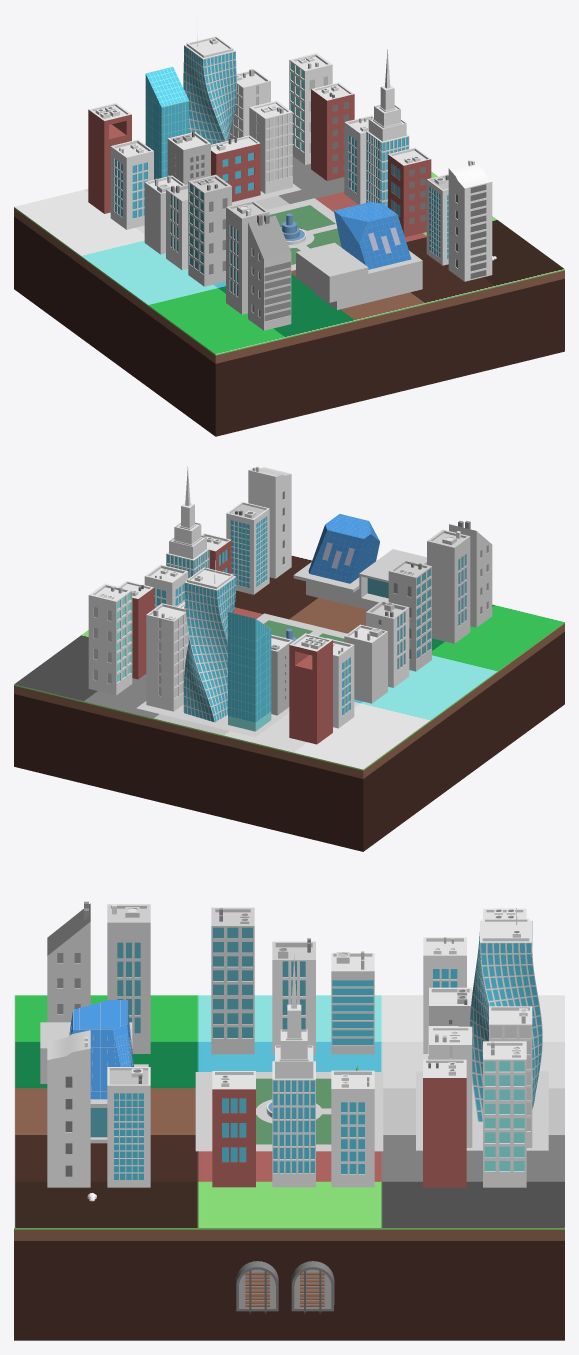
Rendered from City_001.glb.
The picture shows the model from 3 angles, top to bottom: view 1: azimuth 30°, elevation 25°; view 2: azimuth 150°, elevation 25°; view 3: azimuth 270°, elevation 25°; orthographic projection. The views are drawn at different scales.
Parts seen in each view (by area): view 1: City_001_Base_Cube, City_001_Building_012, City_001_Building_004, City_001_Building_011, City_001_Building_014, City_001_Building_017, City_001_Building_020, City_001_Building_007, City_001_Building_002, City_001_Building_009, City_001_Building_021, City_001_Building_018 (+11 smaller); view 2: City_001_Base_Cube, City_001_Building_011, City_001_Building_012, City_001_Building_007, City_001_Building_019, City_001_Building_018, City_001_Building_013, City_001_Building_008, City_001_Building_005, City_001_Building_017, City_001_Building_004, City_001_Building_016 (+10 smaller); view 3: City_001_Base_Cube, City_001_Building_011, City_001_Building_002, City_001_Building_004, City_001_Building_017, City_001_Building_019, City_001_Building_020, City_001_Building_012, City_001_Building_013, City_001_Building_005, City_001_Building_001, City_001_Building_003 (+9 smaller).
Part boxes in pixels (bbox=[...]): City_001_Base_Cube: bbox=[14, 156, 564, 436]; City_001_Building_012: bbox=[296, 202, 422, 309]; City_001_Building_004: bbox=[448, 160, 492, 281]; City_001_Building_011: bbox=[183, 18, 236, 144]; City_001_Building_014: bbox=[248, 214, 291, 330]; City_001_Building_017: bbox=[188, 174, 231, 286]; City_001_Building_020: bbox=[311, 82, 354, 180]; City_001_Building_007: bbox=[145, 66, 188, 179]; City_001_Building_002: bbox=[366, 49, 409, 206]; City_001_Building_009: bbox=[249, 100, 292, 193]; City_001_Building_021: bbox=[110, 139, 153, 229]; City_001_Building_018: bbox=[88, 103, 131, 213]; City_001_Base_Cube: bbox=[14, 555, 564, 851]; City_001_Building_011: bbox=[183, 560, 236, 722]; City_001_Building_012: bbox=[293, 514, 426, 609]; City_001_Building_007: bbox=[228, 612, 271, 731]; City_001_Building_019: bbox=[88, 583, 132, 695]; City_001_Building_018: bbox=[289, 633, 332, 744]; City_001_Building_013: bbox=[427, 529, 470, 643]; City_001_Building_008: bbox=[146, 603, 189, 711]; City_001_Building_005: bbox=[226, 501, 269, 594]; City_001_Building_017: bbox=[388, 559, 431, 671]; City_001_Building_004: bbox=[248, 466, 291, 578]; City_001_Building_016: bbox=[344, 624, 387, 703]; City_001_Base_Cube: bbox=[14, 995, 564, 1340]; City_001_Building_011: bbox=[469, 885, 542, 1121]; City_001_Building_002: bbox=[272, 954, 315, 1187]; City_001_Building_004: bbox=[47, 1030, 90, 1187]; City_001_Building_017: bbox=[211, 907, 254, 1054]; City_001_Building_019: bbox=[483, 1041, 526, 1187]; City_001_Building_020: bbox=[423, 1059, 466, 1187]; City_001_Building_012: bbox=[40, 1000, 148, 1143]; City_001_Building_013: bbox=[107, 904, 150, 1053]; City_001_Building_005: bbox=[107, 1067, 150, 1187]; City_001_Building_001: bbox=[331, 1070, 374, 1187]; City_001_Building_003: bbox=[212, 1071, 255, 1187].
Bounding box in the file's own units: 153 × 99.26 × 147.
14 materials, 1 textured.
